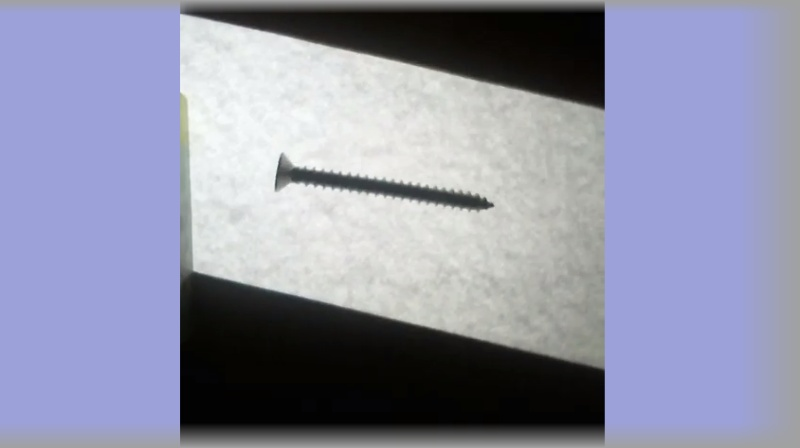S002: (270, 149, 494, 213)
